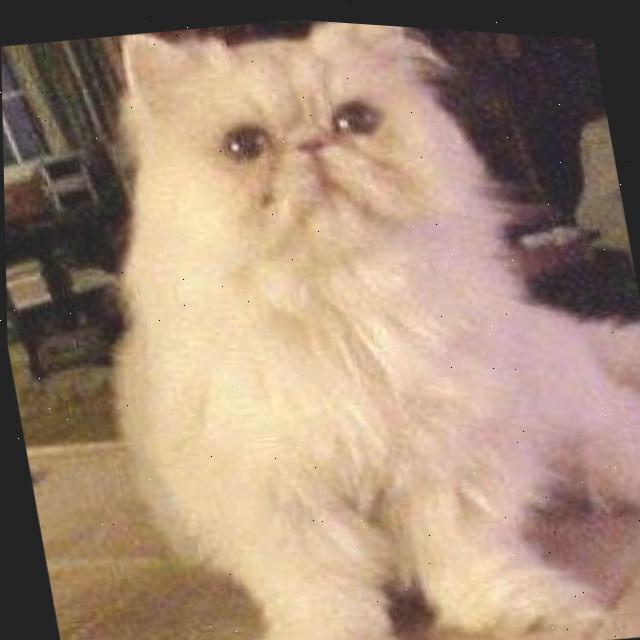Persian: (38, 2, 640, 640)
